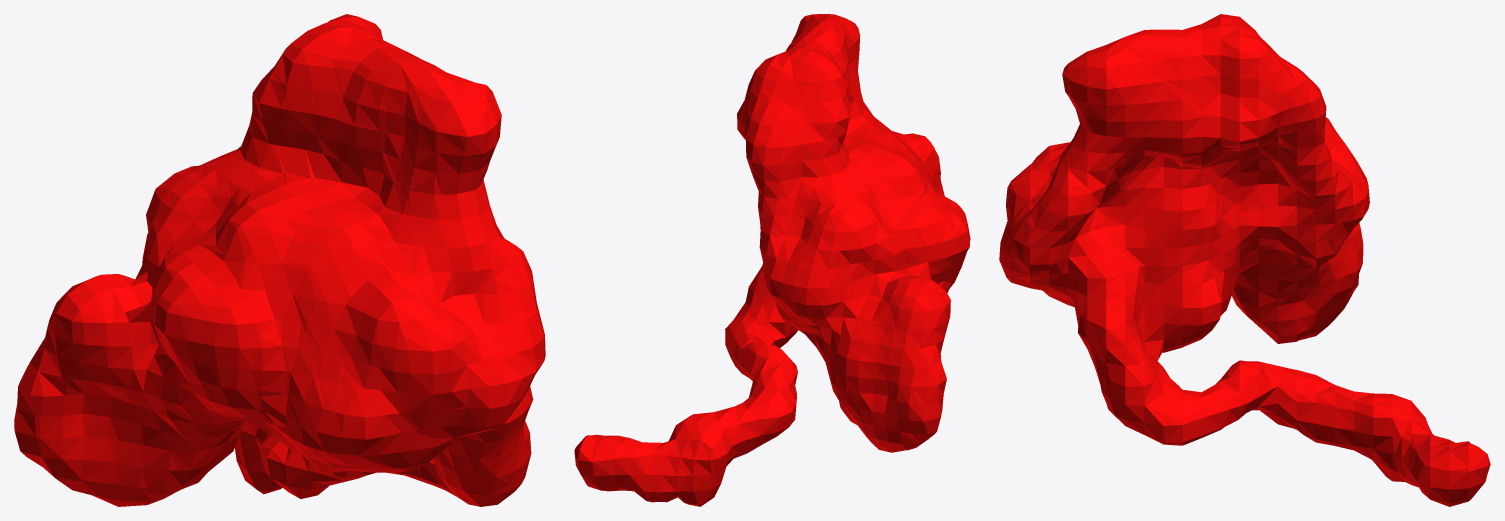
File: sohB_coarse.dae
3 views of the same model, side by side, from view 1: azimuth 30°, elevation 25°; view 2: azimuth 150°, elevation 25°; view 3: azimuth 270°, elevation 25° (orthographic). The views are drawn at different scales.
Parts seen in each view (by area): view 1: sohB; view 2: sohB; view 3: sohB.
Boxes of the visible parts, x1,y1,x2,y2 form: sohB: (14, 14, 545, 506); sohB: (574, 14, 970, 506); sohB: (999, 14, 1490, 506).
Bounding box in the file's own units: 66.91 × 83.35 × 83.52.
